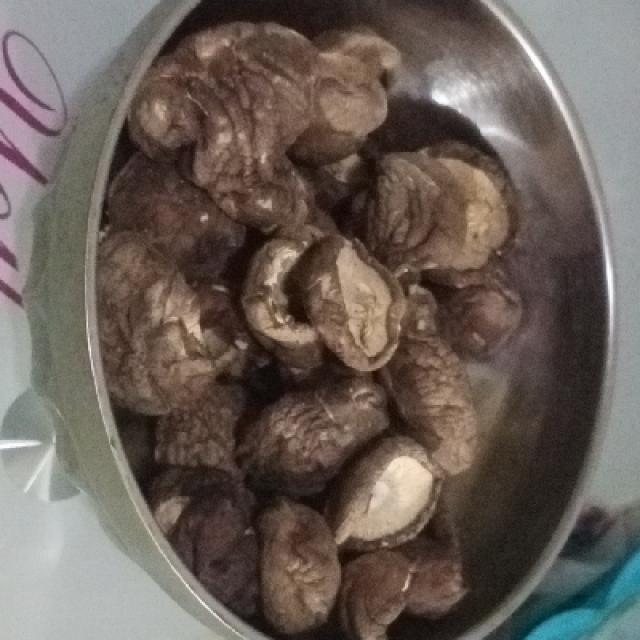Lentinus edodes: (114, 21, 521, 627)
